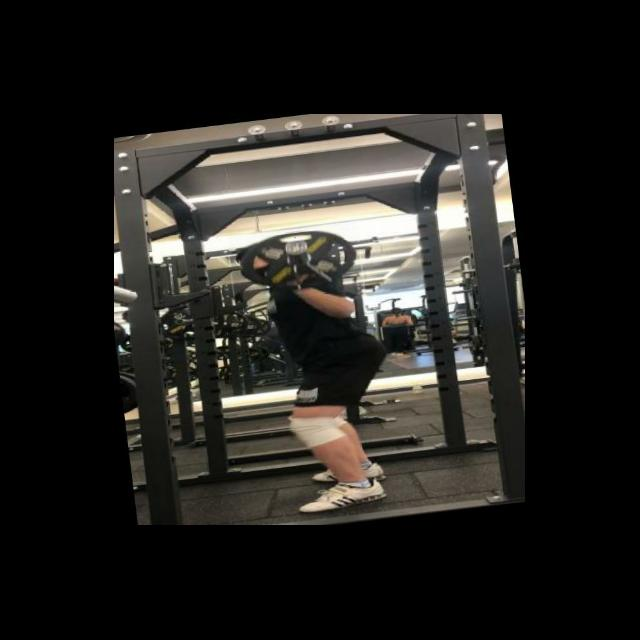barbell: (229, 219, 365, 303)
